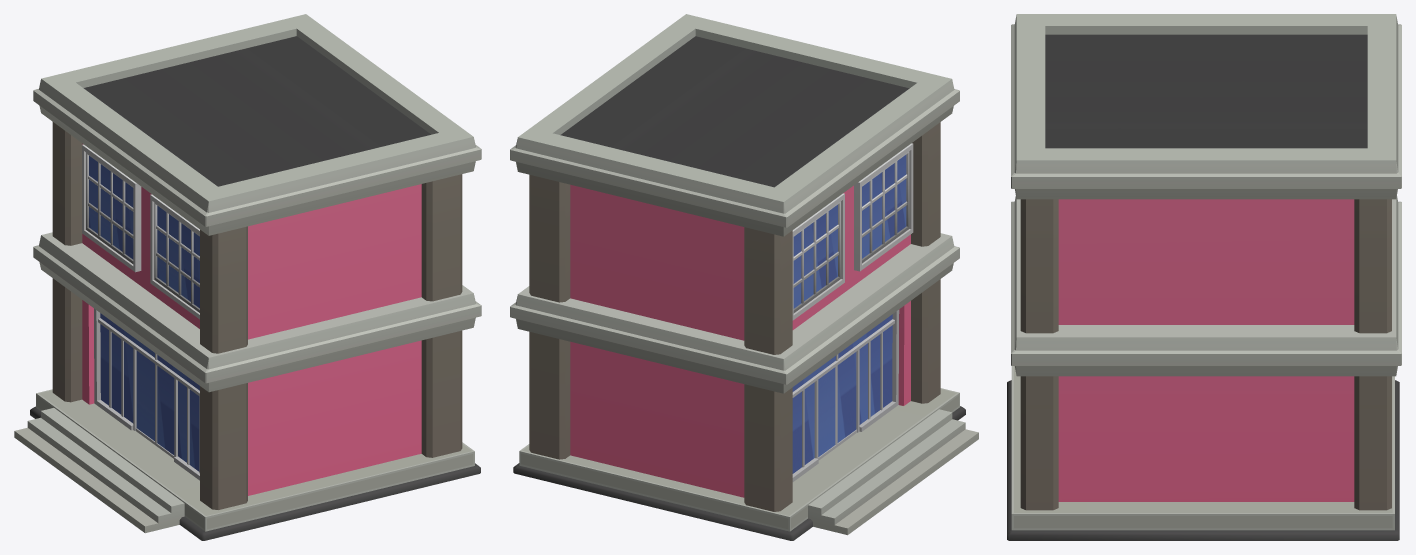
The model's file is Building_9_2_PP.glb.
3 views of the same model, side by side, from view 1: azimuth 30°, elevation 25°; view 2: azimuth 150°, elevation 25°; view 3: azimuth 270°, elevation 25° (orthographic). The views are drawn at different scales.
Visible parts, largest first — view 1: Building_9_2_PP; view 2: Building_9_2_PP; view 3: Building_9_2_PP.
Boxes of the visible parts, x1,y1,x2,y2 form: Building_9_2_PP: [14, 14, 481, 540]; Building_9_2_PP: [510, 14, 978, 540]; Building_9_2_PP: [1007, 14, 1401, 540].
Bounding box in the file's own units: 9.47 × 9.58 × 9.06.
Materials: 3 (3 with a texture image).
